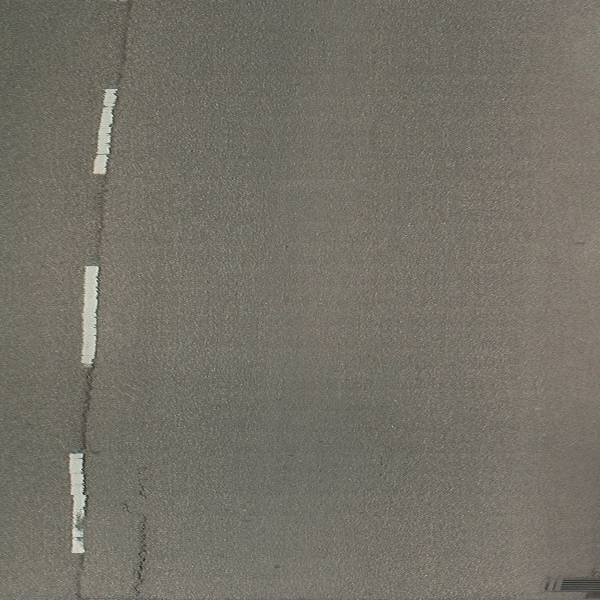road_damage: (120, 508, 155, 600)
